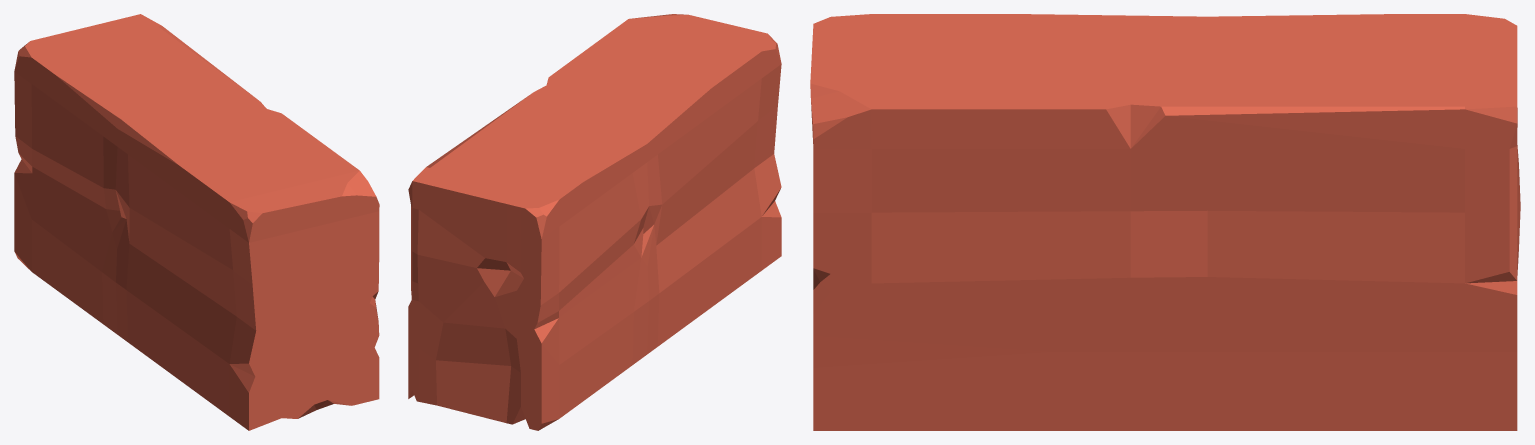
The model's file is Roca_3.fbx.
3 views of the same model, side by side, from view 1: azimuth 30°, elevation 25°; view 2: azimuth 150°, elevation 25°; view 3: azimuth 270°, elevation 25° (orthographic). The views are drawn at different scales.
Visible parts, largest first — view 1: roca 2; view 2: roca 2; view 3: roca 2.
Part boxes in pixels (<box>): roca 2: <box>14,14,379,430</box>; roca 2: <box>408,14,781,430</box>; roca 2: <box>810,14,1520,430</box>.
Bounding box in the file's own units: 1590 × 2396 × 4780.
